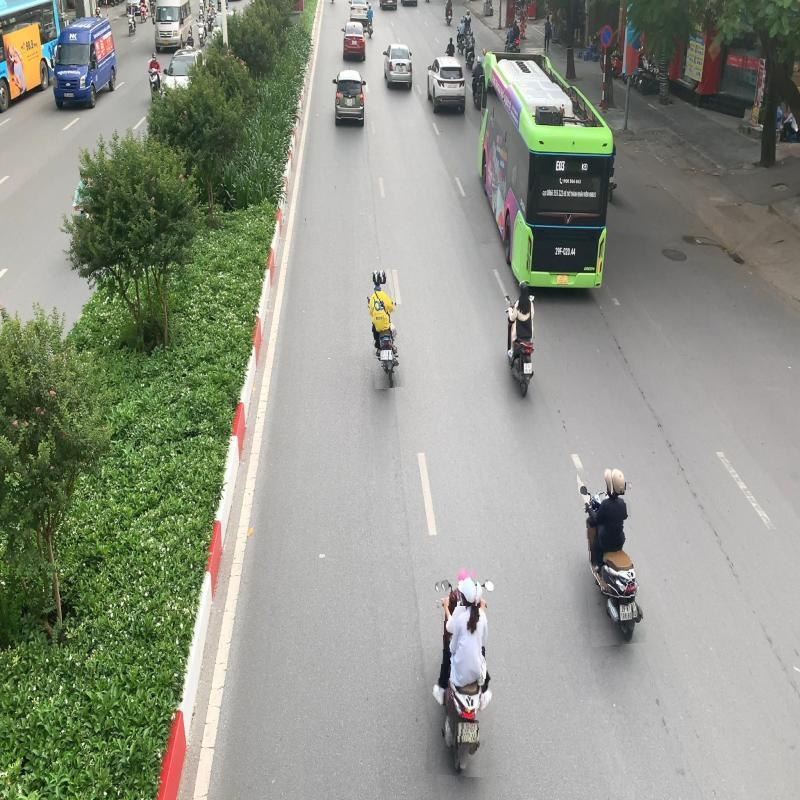helmet: (457, 577, 477, 606), (611, 466, 626, 495), (456, 567, 471, 586), (378, 269, 388, 284)
licenseplate: (460, 718, 479, 746), (619, 603, 633, 621), (380, 349, 390, 361)
motorcyclist: (428, 566, 496, 777), (580, 464, 643, 646), (364, 264, 401, 388)
